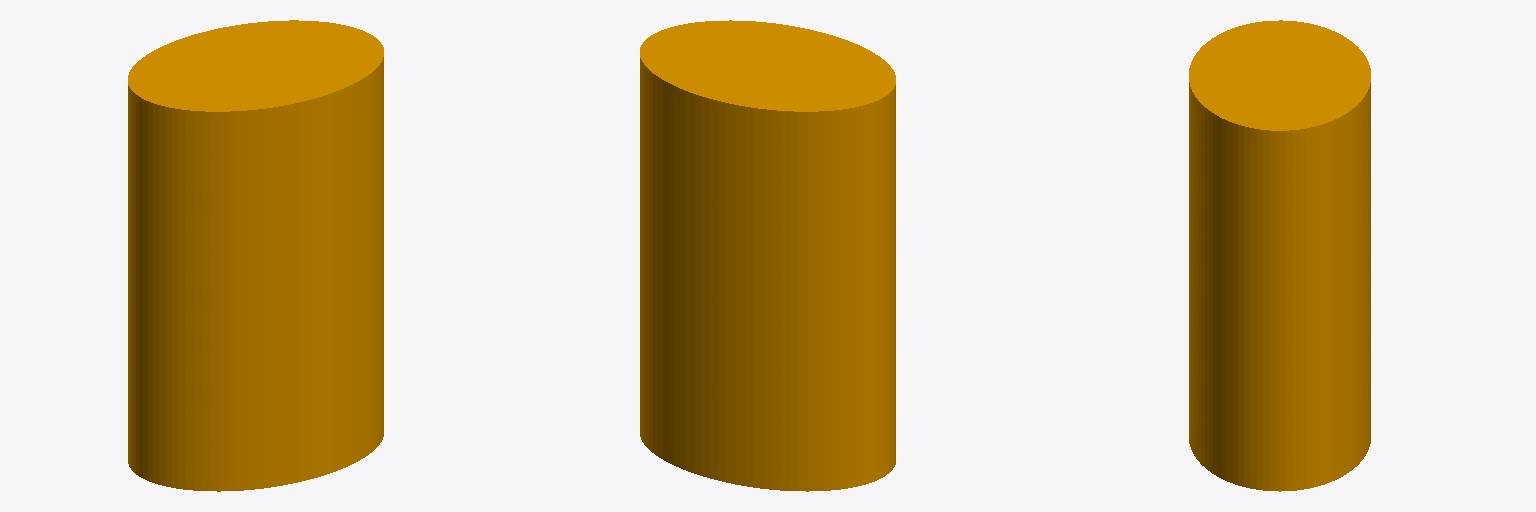
robot.urdf — ellipse_peg:
<?xml version="1.0"?>
<robot name="ellipse_peg">
    <link name="ellipse_peg">
        <visual>
            <!--origin xyz="0 0 0.01905" rpy="0 1.57079632679 0"-->
            <geometry>
                <mesh filename="../mesh/factory_insertion/ellipse_peg.obj"/>
            </geometry>
        </visual>
        <collision>
            <!--origin xyz="0 0 0.01905" rpy="0 1.57079632679 0"-->
            <geometry>
                <mesh filename="../mesh/factory_insertion/ellipse_peg.obj"/>
            </geometry>
        </collision>
    </link>
</robot>

--- Facts derived from the render (not from the file) ---
Views: 3 orthographic renders of the robot side by side, from view 1: azimuth 30°, elevation 25°; view 2: azimuth 150°, elevation 25°; view 3: azimuth 270°, elevation 25°.
Model ellipse_peg with 1 links and 0 joints (none), rooted at ellipse_peg, posed all joints at 0.
Visible links, largest first — view 1: ellipse_peg; view 2: ellipse_peg; view 3: ellipse_peg.
Link boxes in pixels (x1,y1,x2,y2): ellipse_peg: (128, 20, 383, 491); ellipse_peg: (640, 20, 895, 491); ellipse_peg: (1189, 20, 1370, 491).
Size in the robot's own frame: 0.05 by 0.035 by 0.0762 metres.
Meshes: 1 distinct files referenced, 1 mesh visuals loaded (1 OBJ).
